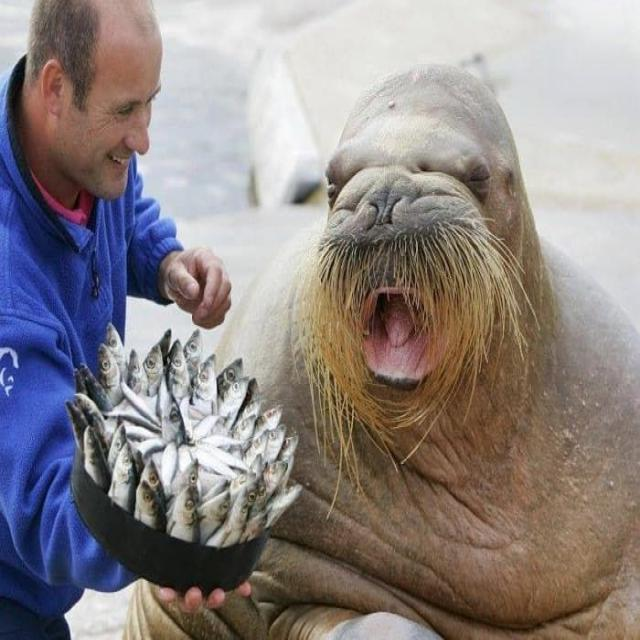walrus: (276, 62, 569, 452)
